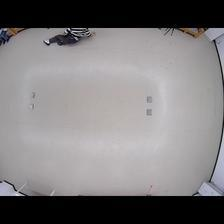fall: (43, 27, 93, 49)
